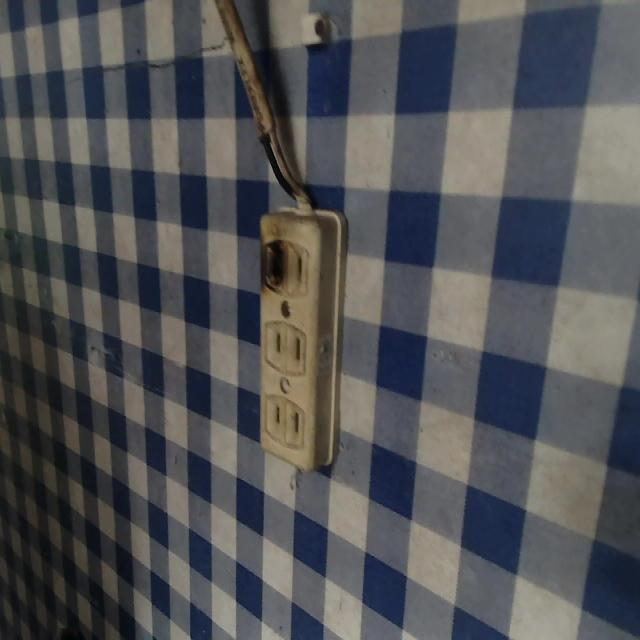-: (253, 237, 293, 295)
